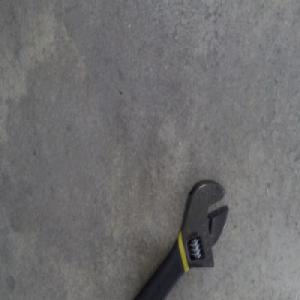AdjustableWrench: (132, 180, 229, 299)
